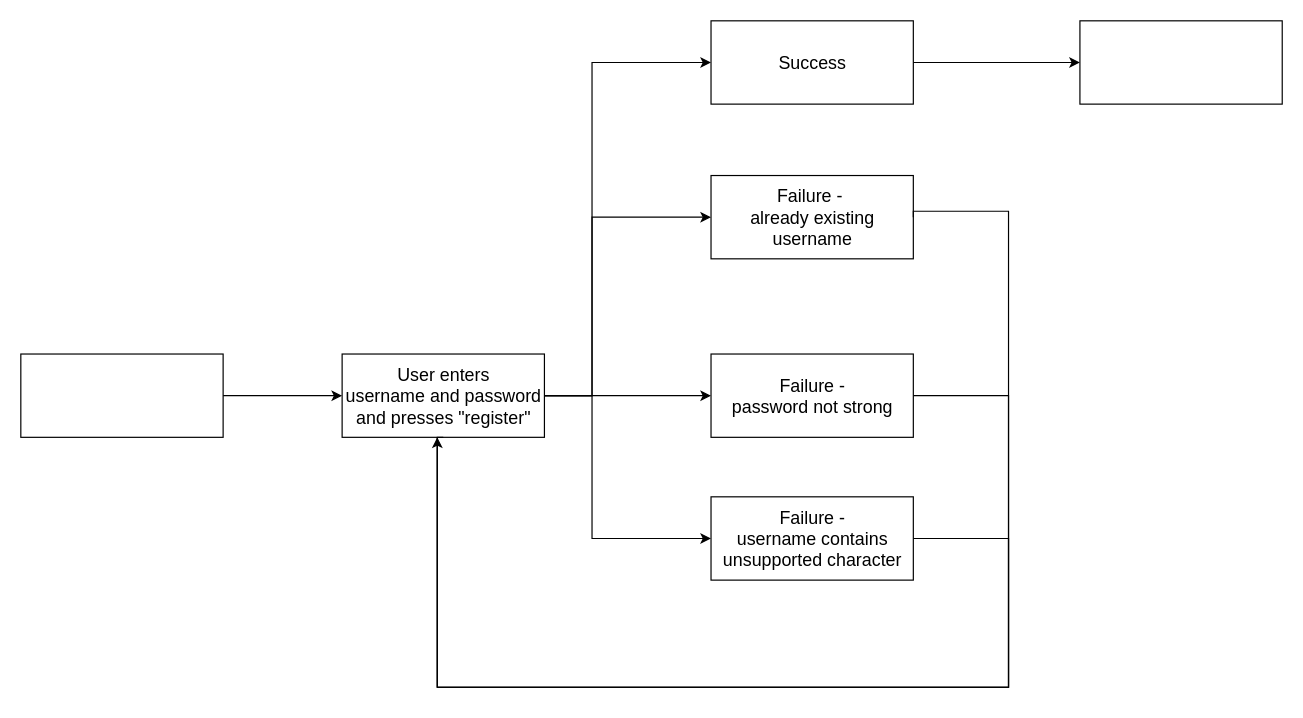
Some shapes in this 1303 by 718 pixel diagram are drawn without their labels. The box of each missing label's shape, as (x1, y1, x2, y2) in pixels:
['Login' user flow begins]: (1079, 20, 1282, 104)
User opens register application: (20, 353, 223, 437)
